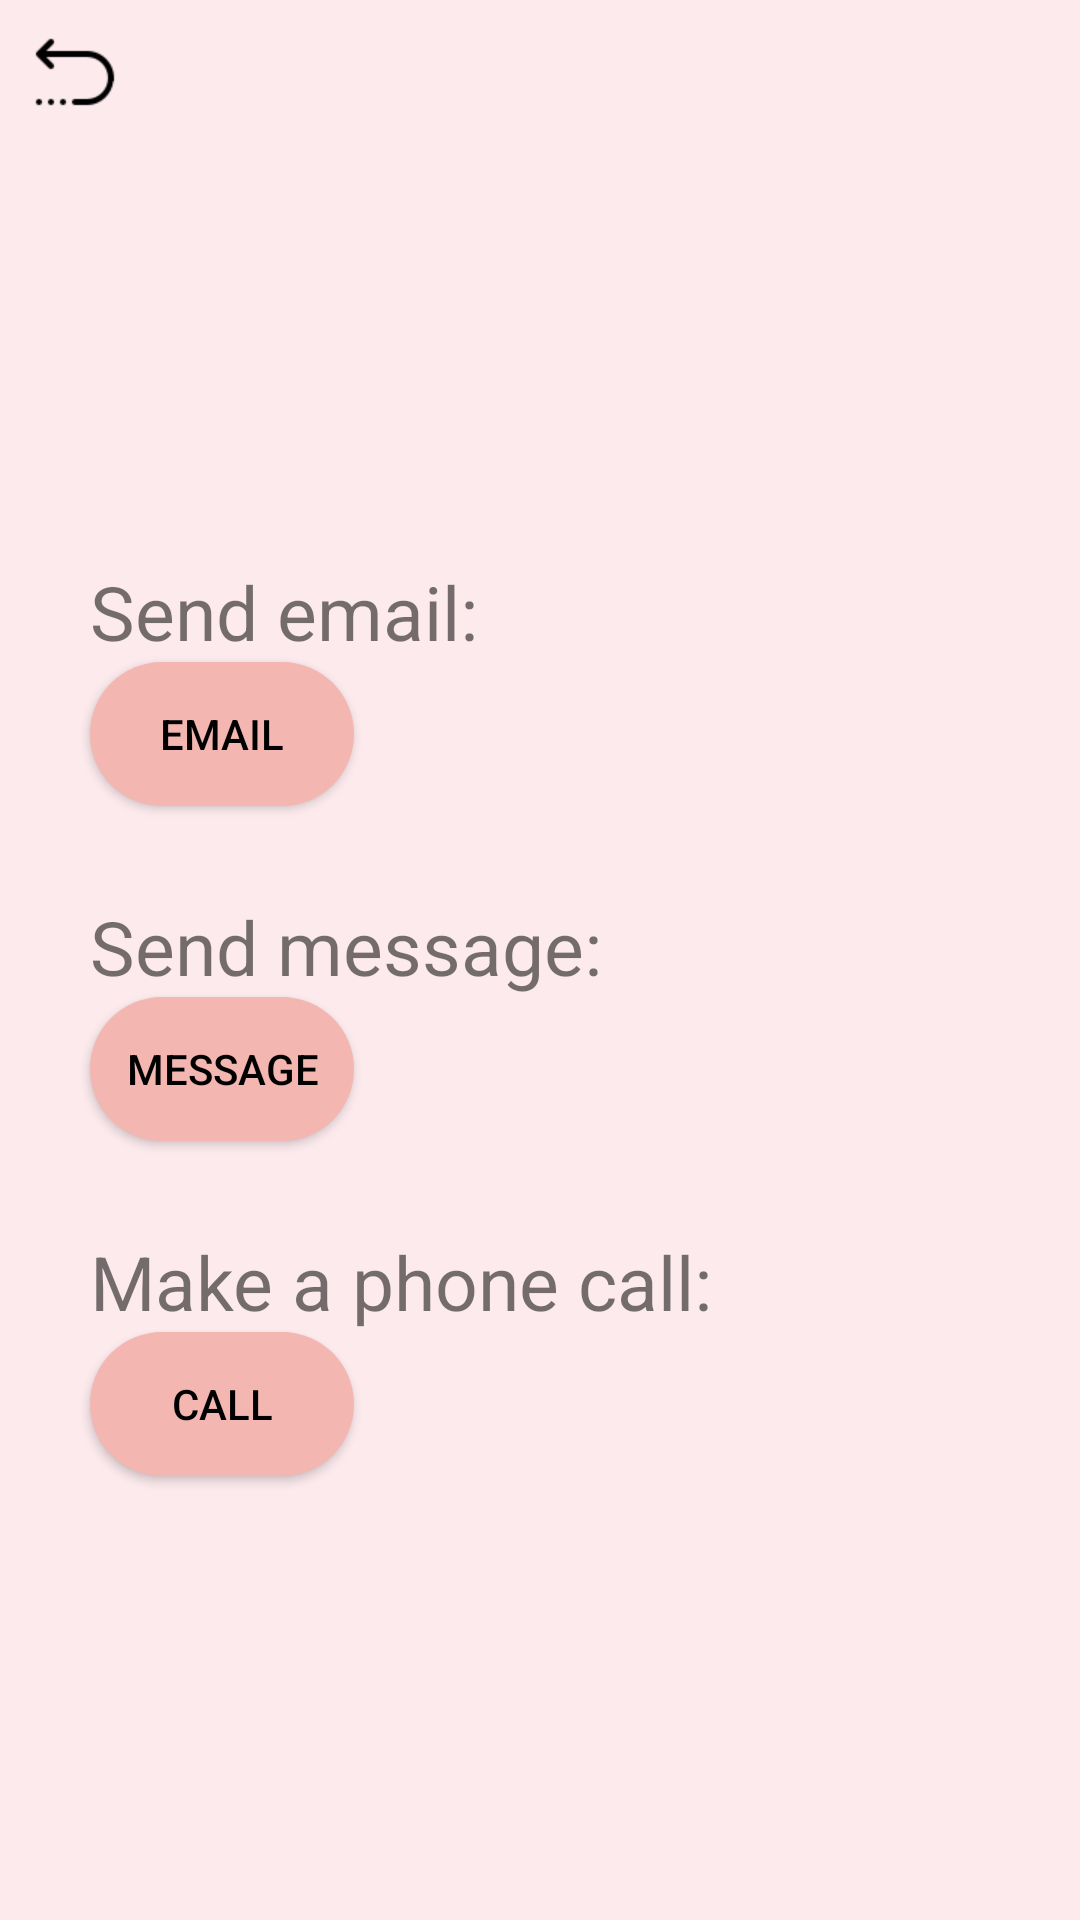

Point at icon controls on the screen. Image size 1080 × 1920, points as (x=x, y=y).
return: (x=75, y=72)
